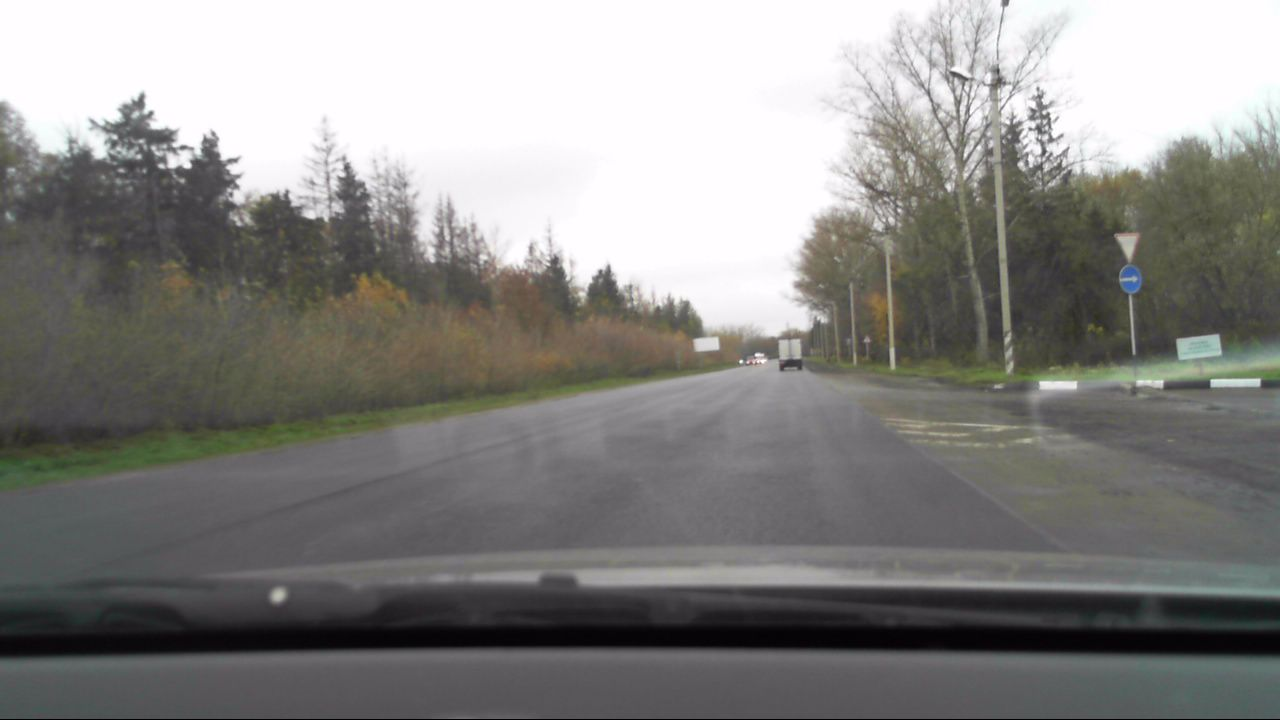Turn Right: (1119, 264, 1141, 293)
